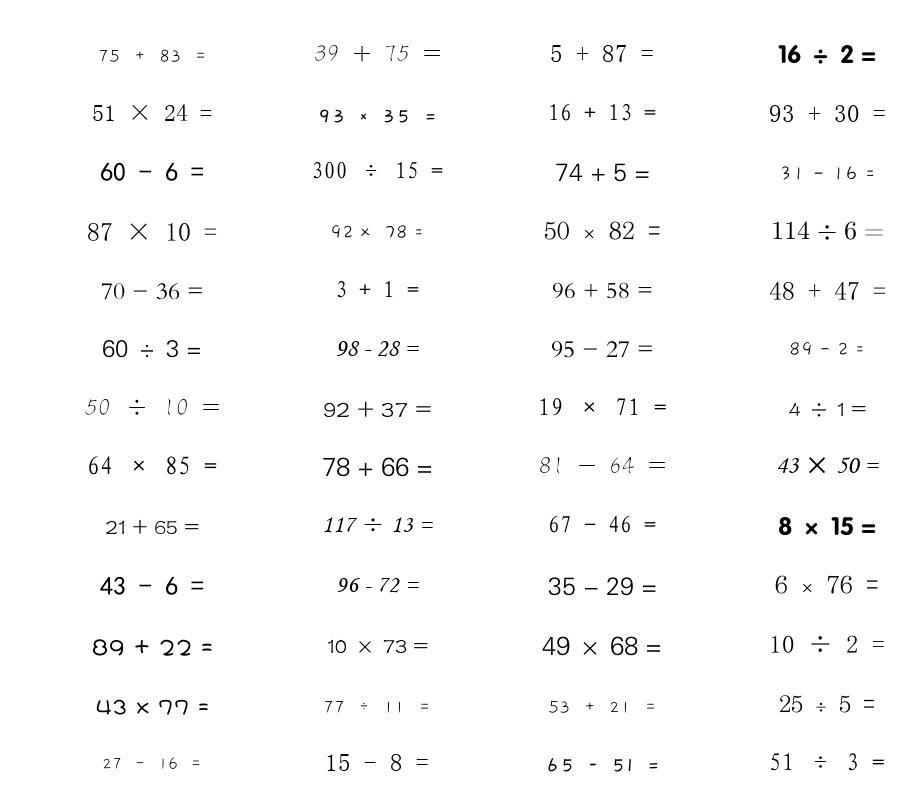MQ: (87, 222, 217, 241), (87, 456, 217, 475), (542, 636, 662, 656), (311, 161, 443, 179), (538, 398, 667, 416), (85, 399, 220, 416), (539, 456, 666, 474), (544, 221, 661, 240), (322, 457, 433, 477), (314, 45, 441, 62), (771, 221, 884, 240), (769, 282, 886, 300), (769, 635, 885, 653), (769, 753, 885, 771), (100, 162, 204, 182), (548, 577, 657, 596), (92, 639, 213, 656), (92, 104, 212, 121), (769, 105, 886, 122), (100, 576, 204, 595), (775, 575, 879, 594), (778, 44, 876, 64), (778, 516, 876, 536), (548, 103, 656, 121), (548, 515, 656, 533), (102, 339, 202, 358), (323, 401, 432, 418), (96, 699, 209, 715), (555, 163, 650, 182), (322, 517, 433, 533), (550, 45, 654, 62), (325, 754, 429, 771), (101, 283, 204, 300), (551, 341, 654, 358), (776, 457, 879, 474), (779, 695, 875, 713), (552, 282, 653, 299), (317, 109, 437, 123), (545, 758, 660, 772), (98, 49, 207, 63), (548, 700, 657, 714), (335, 280, 419, 298), (105, 519, 199, 535), (779, 166, 875, 181), (327, 639, 428, 653), (323, 701, 431, 714), (335, 341, 419, 357), (336, 577, 419, 593), (330, 225, 424, 239), (102, 757, 202, 770), (789, 402, 866, 417), (789, 342, 865, 356)
